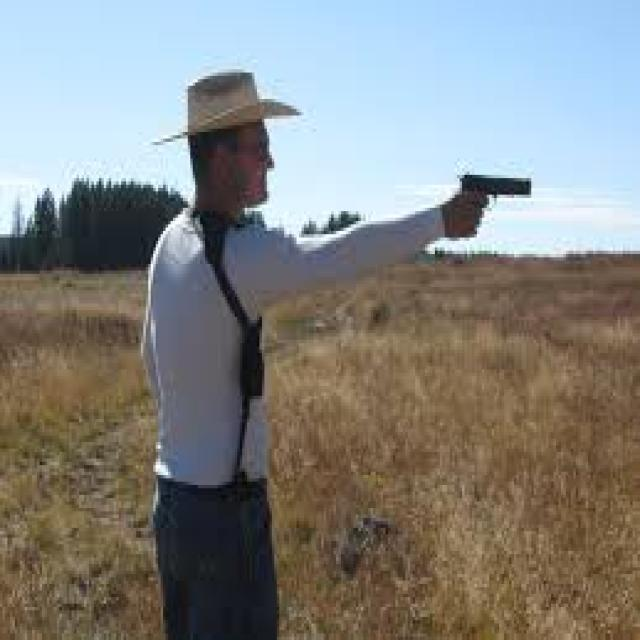gun: (447, 154, 548, 243)
